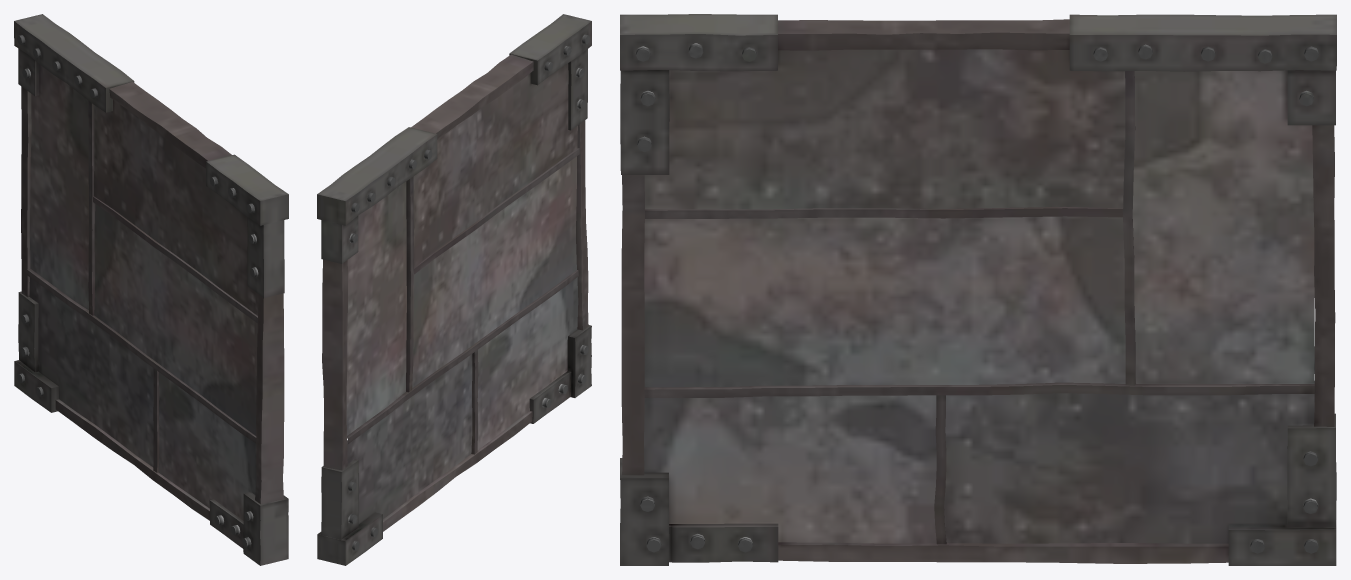
File: SM_Wall_Iron_41f9cf.glb
The picture shows the model from 3 angles, left to right: view 1: azimuth 30°, elevation 25°; view 2: azimuth 150°, elevation 25°; view 3: azimuth 270°, elevation 25°; orthographic projection. The views are drawn at different scales.
Bounding box in the file's own units: 0.3467 × 3.31 × 4.04.
1 material, 1 textured.
